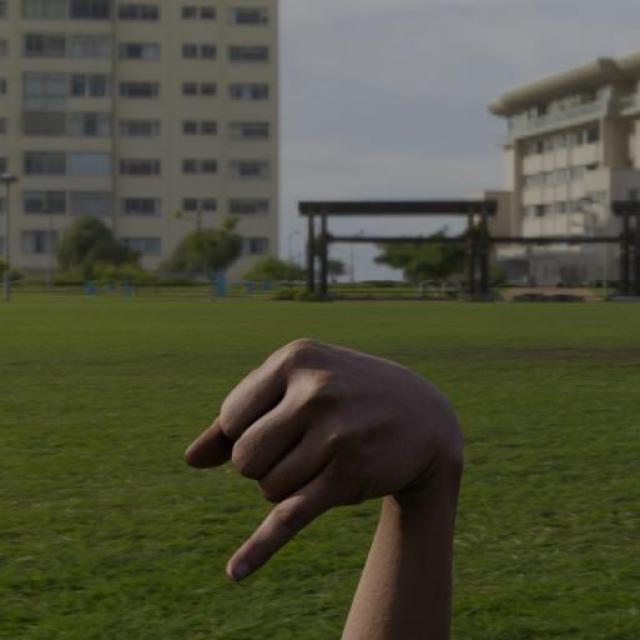J: (178, 334, 466, 586)
